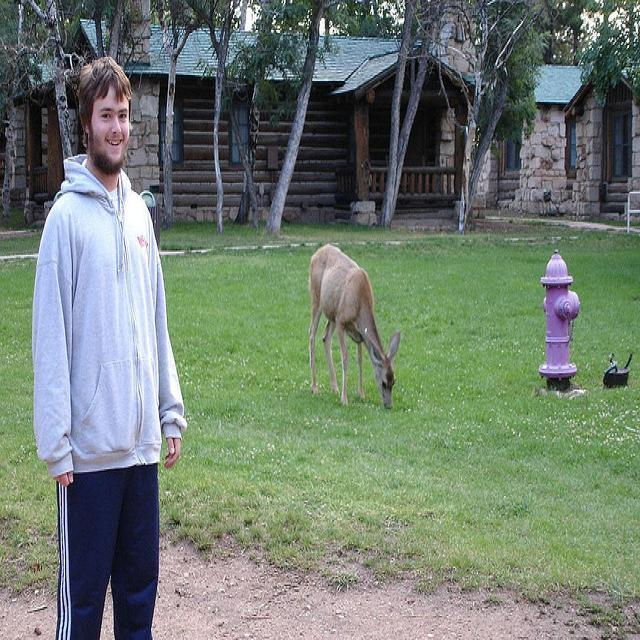fire_hydrant: (541, 246, 579, 394)
